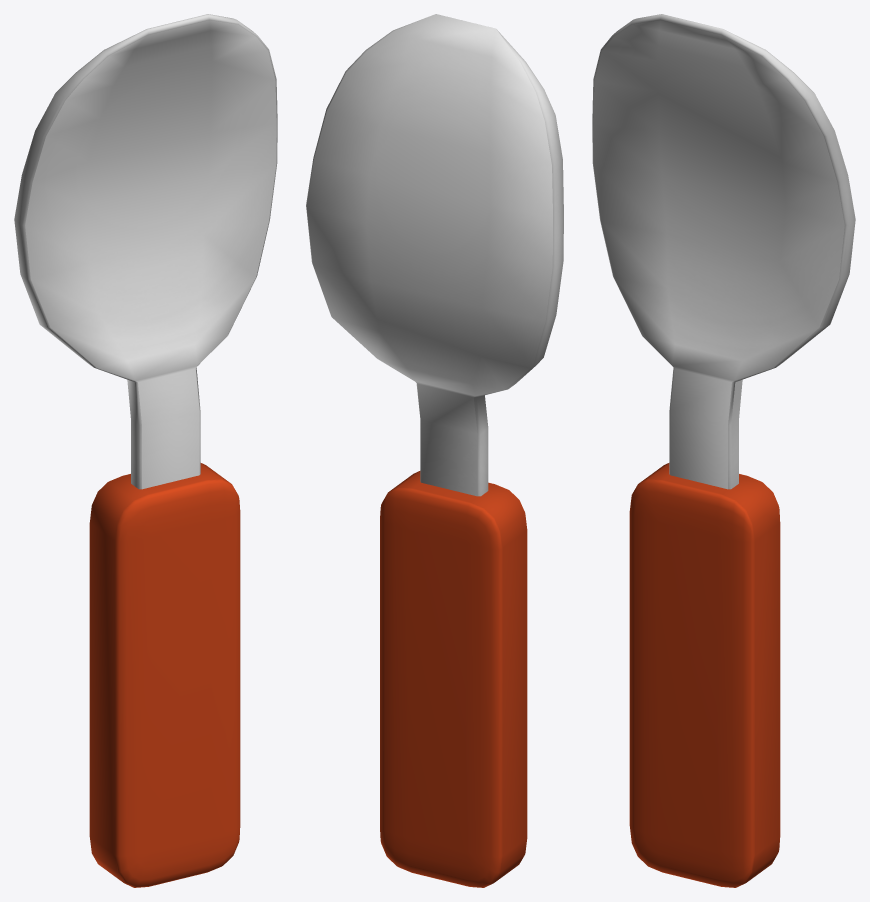
The model's file is spoon.FBX.
3 views of the same model, side by side, from view 1: azimuth 30°, elevation 25°; view 2: azimuth 150°, elevation 25°; view 3: azimuth 330°, elevation 25° (orthographic). The views are drawn at different scales.
Visible parts, largest first — view 1: spoon; view 2: spoon; view 3: spoon.
Part boxes in pixels (left/top/right/bottom): spoon: left=14, top=14, right=277, bottom=887; spoon: left=306, top=14, right=563, bottom=887; spoon: left=592, top=14, right=855, bottom=887.
Bounding box in the file's own units: 12.44 × 39.95 × 3.76.
